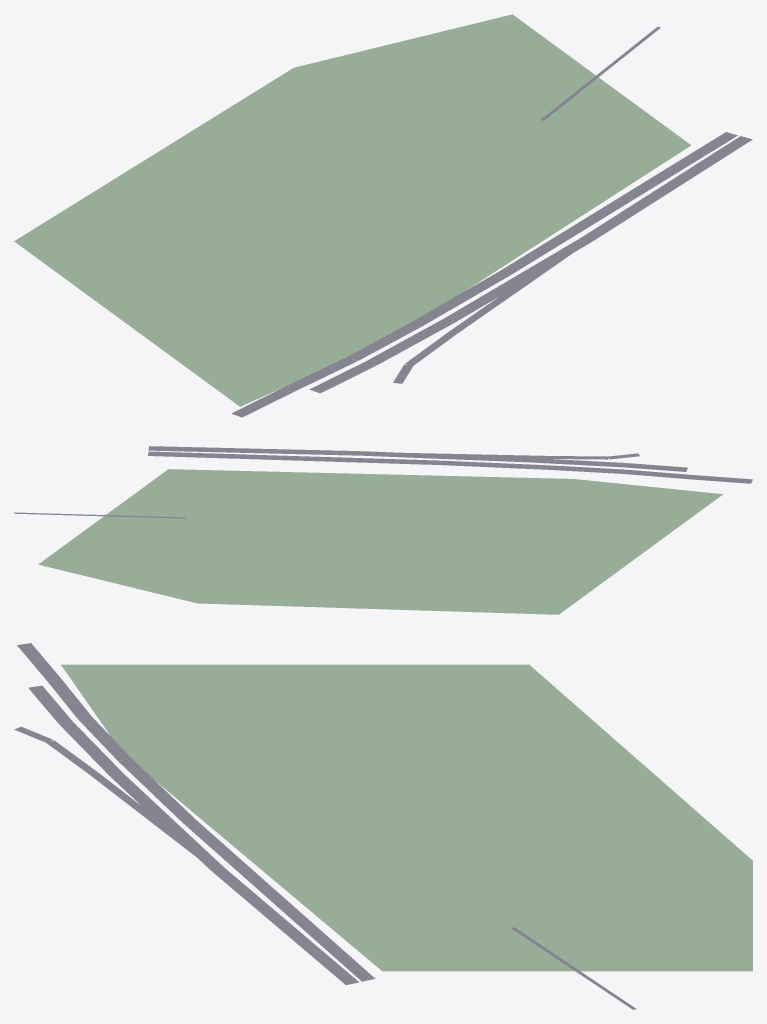
File: 128_128_mid.glb
3 renders of one model, top to bottom at view 1: azimuth 30°, elevation 25°; view 2: azimuth 150°, elevation 25°; view 3: azimuth 270°, elevation 25°, orthographic. The views are drawn at different scales.
Size of the model in its own units: 594 by 7.88 by 509.
